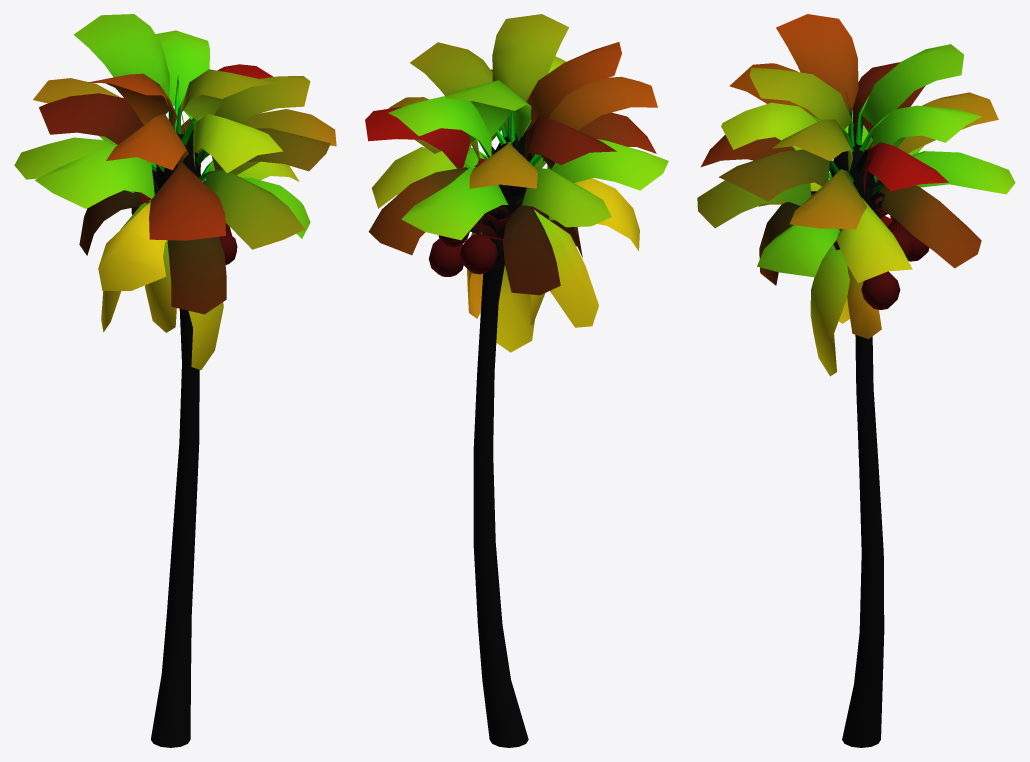
The model's file is G_CoconutTree_001_S1.fbx.
3 renders of one model, left to right at view 1: azimuth 30°, elevation 25°; view 2: azimuth 150°, elevation 25°; view 3: azimuth 270°, elevation 25°, orthographic.
Visible parts, largest first — view 1: G_CoconutTree_001_S1_P01_LOD0; view 2: G_CoconutTree_001_S1_P01_LOD0; view 3: G_CoconutTree_001_S1_P01_LOD0.
Boxes of the visible parts, <box> form: G_CoconutTree_001_S1_P01_LOD0: <box>14,14,336,747</box>; G_CoconutTree_001_S1_P01_LOD0: <box>365,14,668,747</box>; G_CoconutTree_001_S1_P01_LOD0: <box>697,14,1015,747</box>.
Size of what is drawn, in the model's own units: 316 by 751 by 317.
